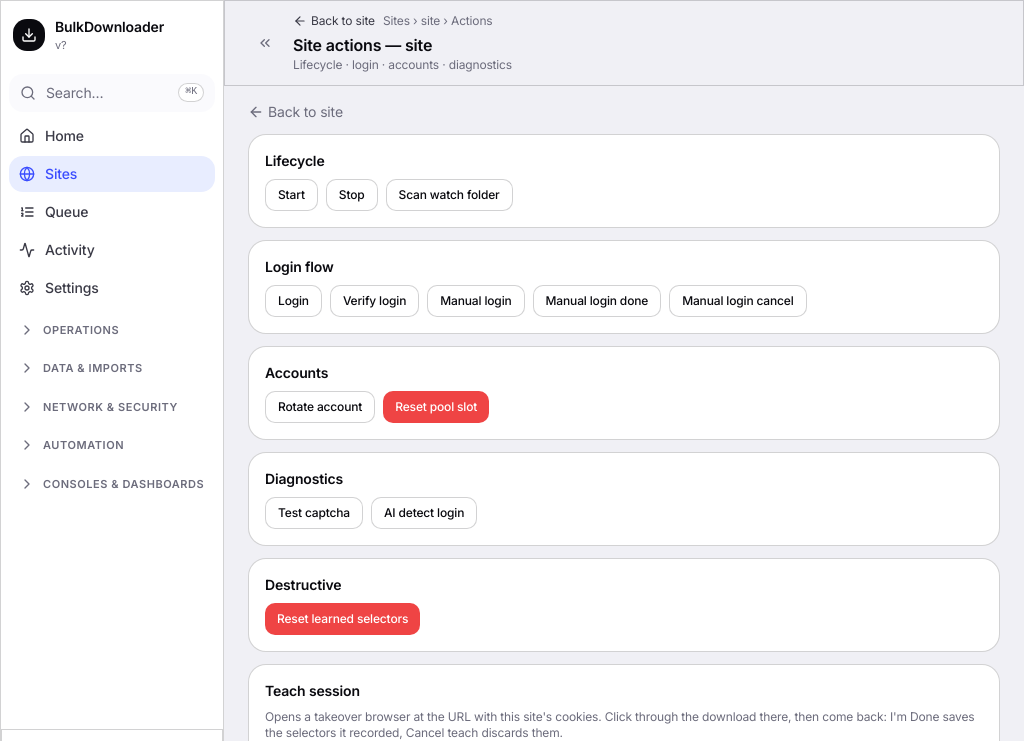
it: watch-folder scan action › renders HTTP errors as readable result text
Click the button "Scan watch folder".
click(449, 195)  # box [386,179,513,211]
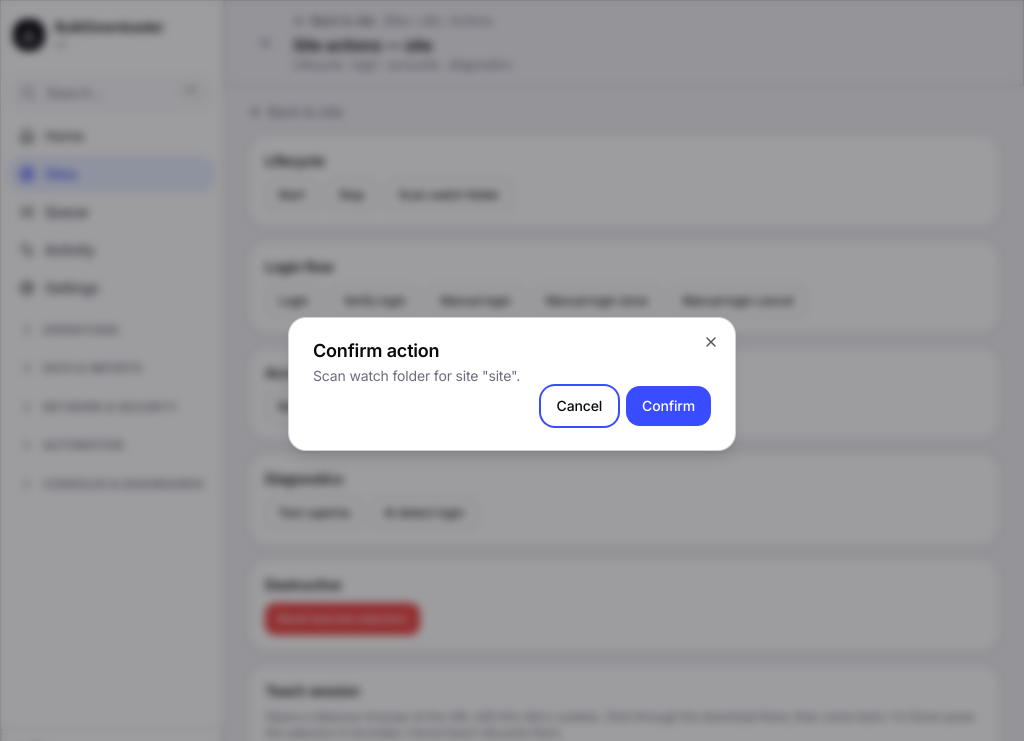
Click the button "Confirm".
click(669, 406)  # box [626,386,711,426]
(page scrolled)
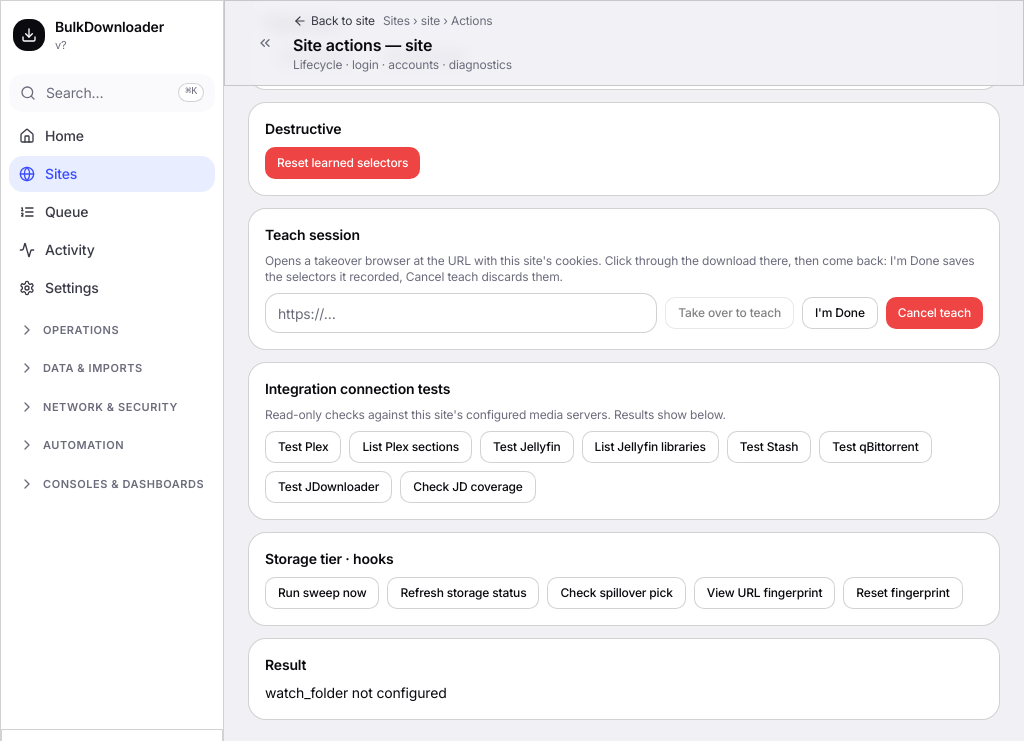
Expected: the message reads "watch_folder not configured", [265,684,447,701]
